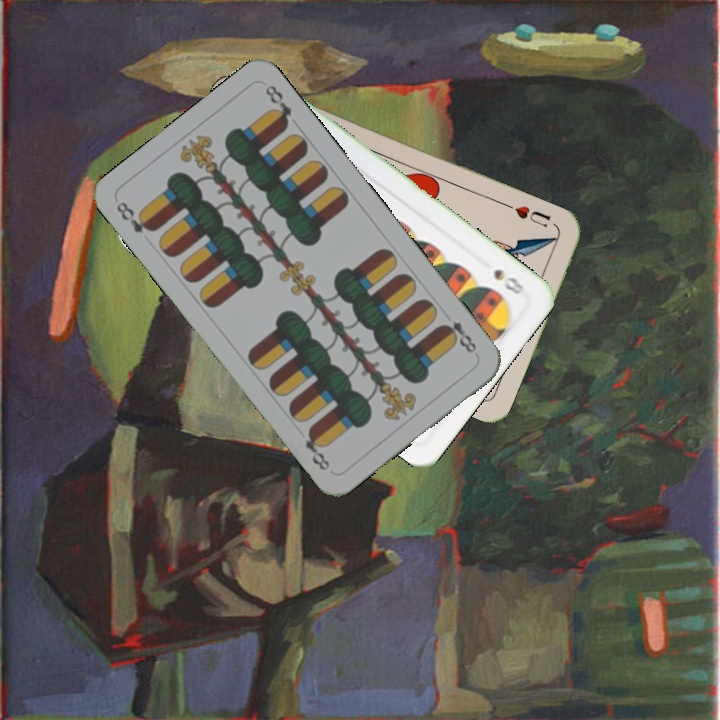E8: (112, 197, 158, 237), (437, 317, 479, 356)
HU: (510, 201, 553, 230)
S8: (489, 264, 527, 298)
